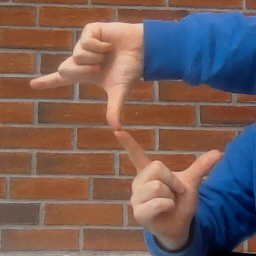Z: (29, 19, 224, 213)
